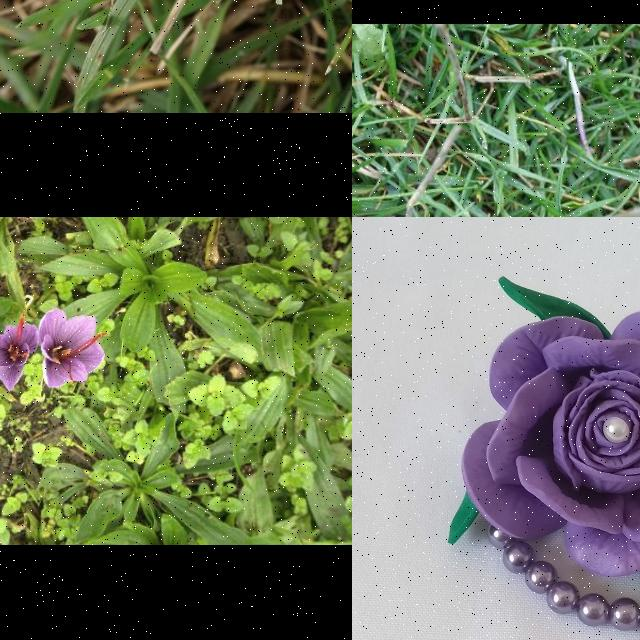flower: (38, 308, 110, 388), (0, 314, 38, 391)
